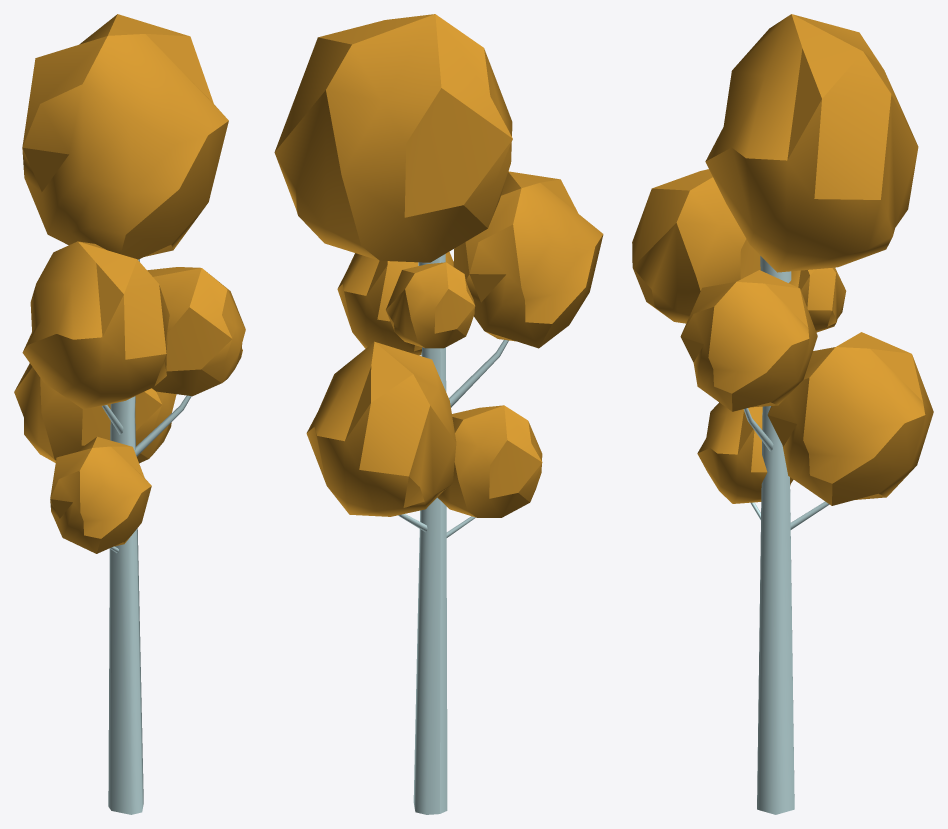
The model's file is SM_Peuplier.FBX.
3 views of the same model, side by side, from view 1: azimuth 30°, elevation 25°; view 2: azimuth 150°, elevation 25°; view 3: azimuth 270°, elevation 25° (orthographic). The views are drawn at different scales.
Visible parts, largest first — view 1: SM_Peuplier; view 2: SM_Peuplier; view 3: SM_Peuplier.
Boxes of the visible parts, box(x1,y1,x2,y2) form: SM_Peuplier: box(14, 14, 245, 814); SM_Peuplier: box(274, 14, 603, 814); SM_Peuplier: box(632, 14, 933, 814).
Bounding box in the file's own units: 197 × 617 × 214.
